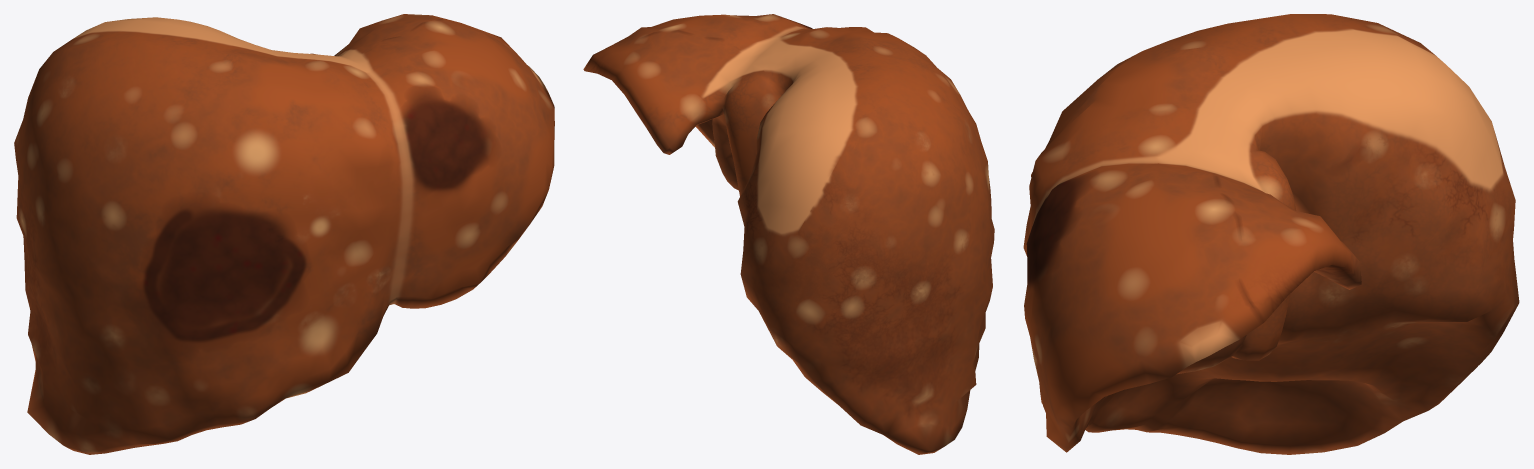
Rendered from Liver_HCC.glb.
3 views of the same model, side by side, from view 1: azimuth 30°, elevation 25°; view 2: azimuth 150°, elevation 25°; view 3: azimuth 270°, elevation 25° (orthographic). The views are drawn at different scales.
Parts seen in each view (by area): view 1: liver_low; view 2: liver_low; view 3: liver_low.
Boxes of the visible parts, x1,y1,x2,y2 form: liver_low: (14,14,554,454); liver_low: (583,14,994,454); liver_low: (1023,14,1519,454).
Size of the model in its own units: 0.2108 by 0.1707 by 0.159.
Materials: 1 (1 with a texture image).
